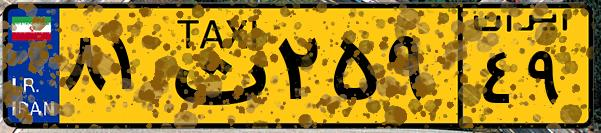1: (110, 28, 158, 98)
2: (270, 28, 330, 110)
4: (475, 38, 525, 113)
5: (330, 28, 385, 110)
8: (57, 26, 110, 100)
9: (385, 28, 445, 110), (525, 38, 570, 115)
ت: (158, 12, 270, 120)
